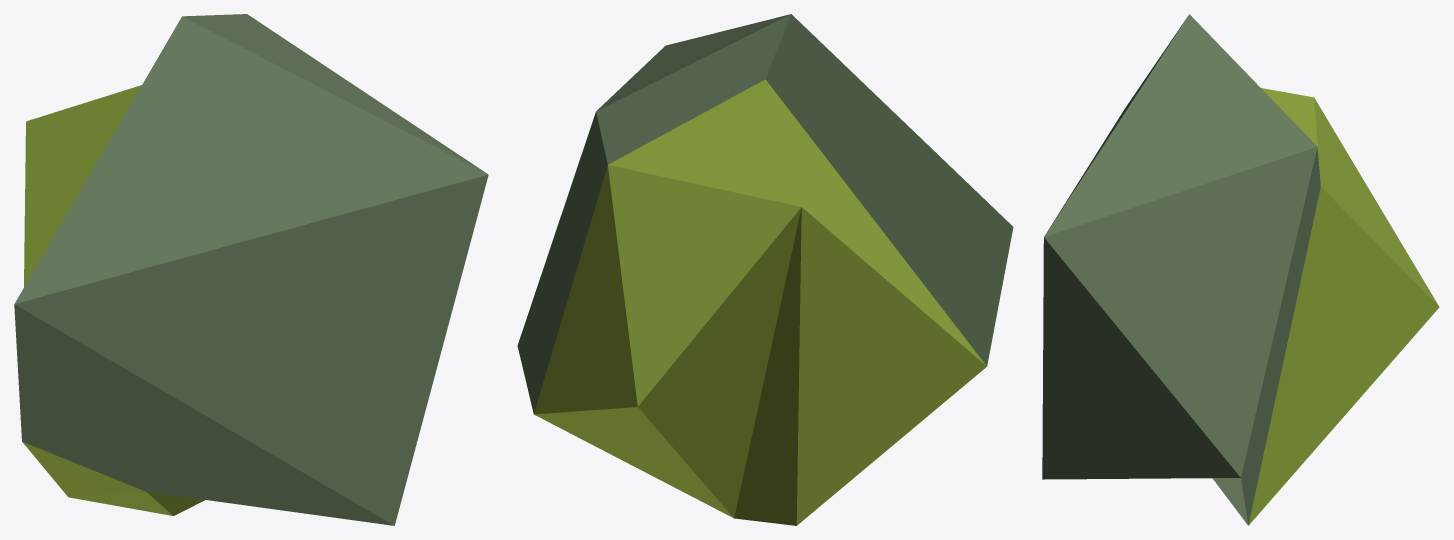
Rendered from Gib_3.fbx.
3 views of the same model, side by side, from view 1: azimuth 30°, elevation 25°; view 2: azimuth 150°, elevation 25°; view 3: azimuth 270°, elevation 25° (orthographic). The views are drawn at different scales.
Parts seen in each view (by area): view 1: pPlatonic2; view 2: pPlatonic2; view 3: pPlatonic2.
Part boxes in pixels (<box>): pPlatonic2: <box>14,14,488,525</box>; pPlatonic2: <box>517,14,1013,525</box>; pPlatonic2: <box>1042,14,1439,525</box>.
Size of the model in its own units: 15.55 by 16.65 by 13.07.
